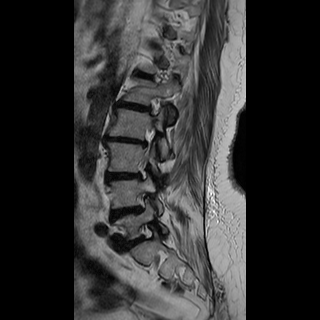LFS0: (139, 87, 166, 122), (134, 220, 162, 248)
LFS1: (133, 190, 159, 220)
